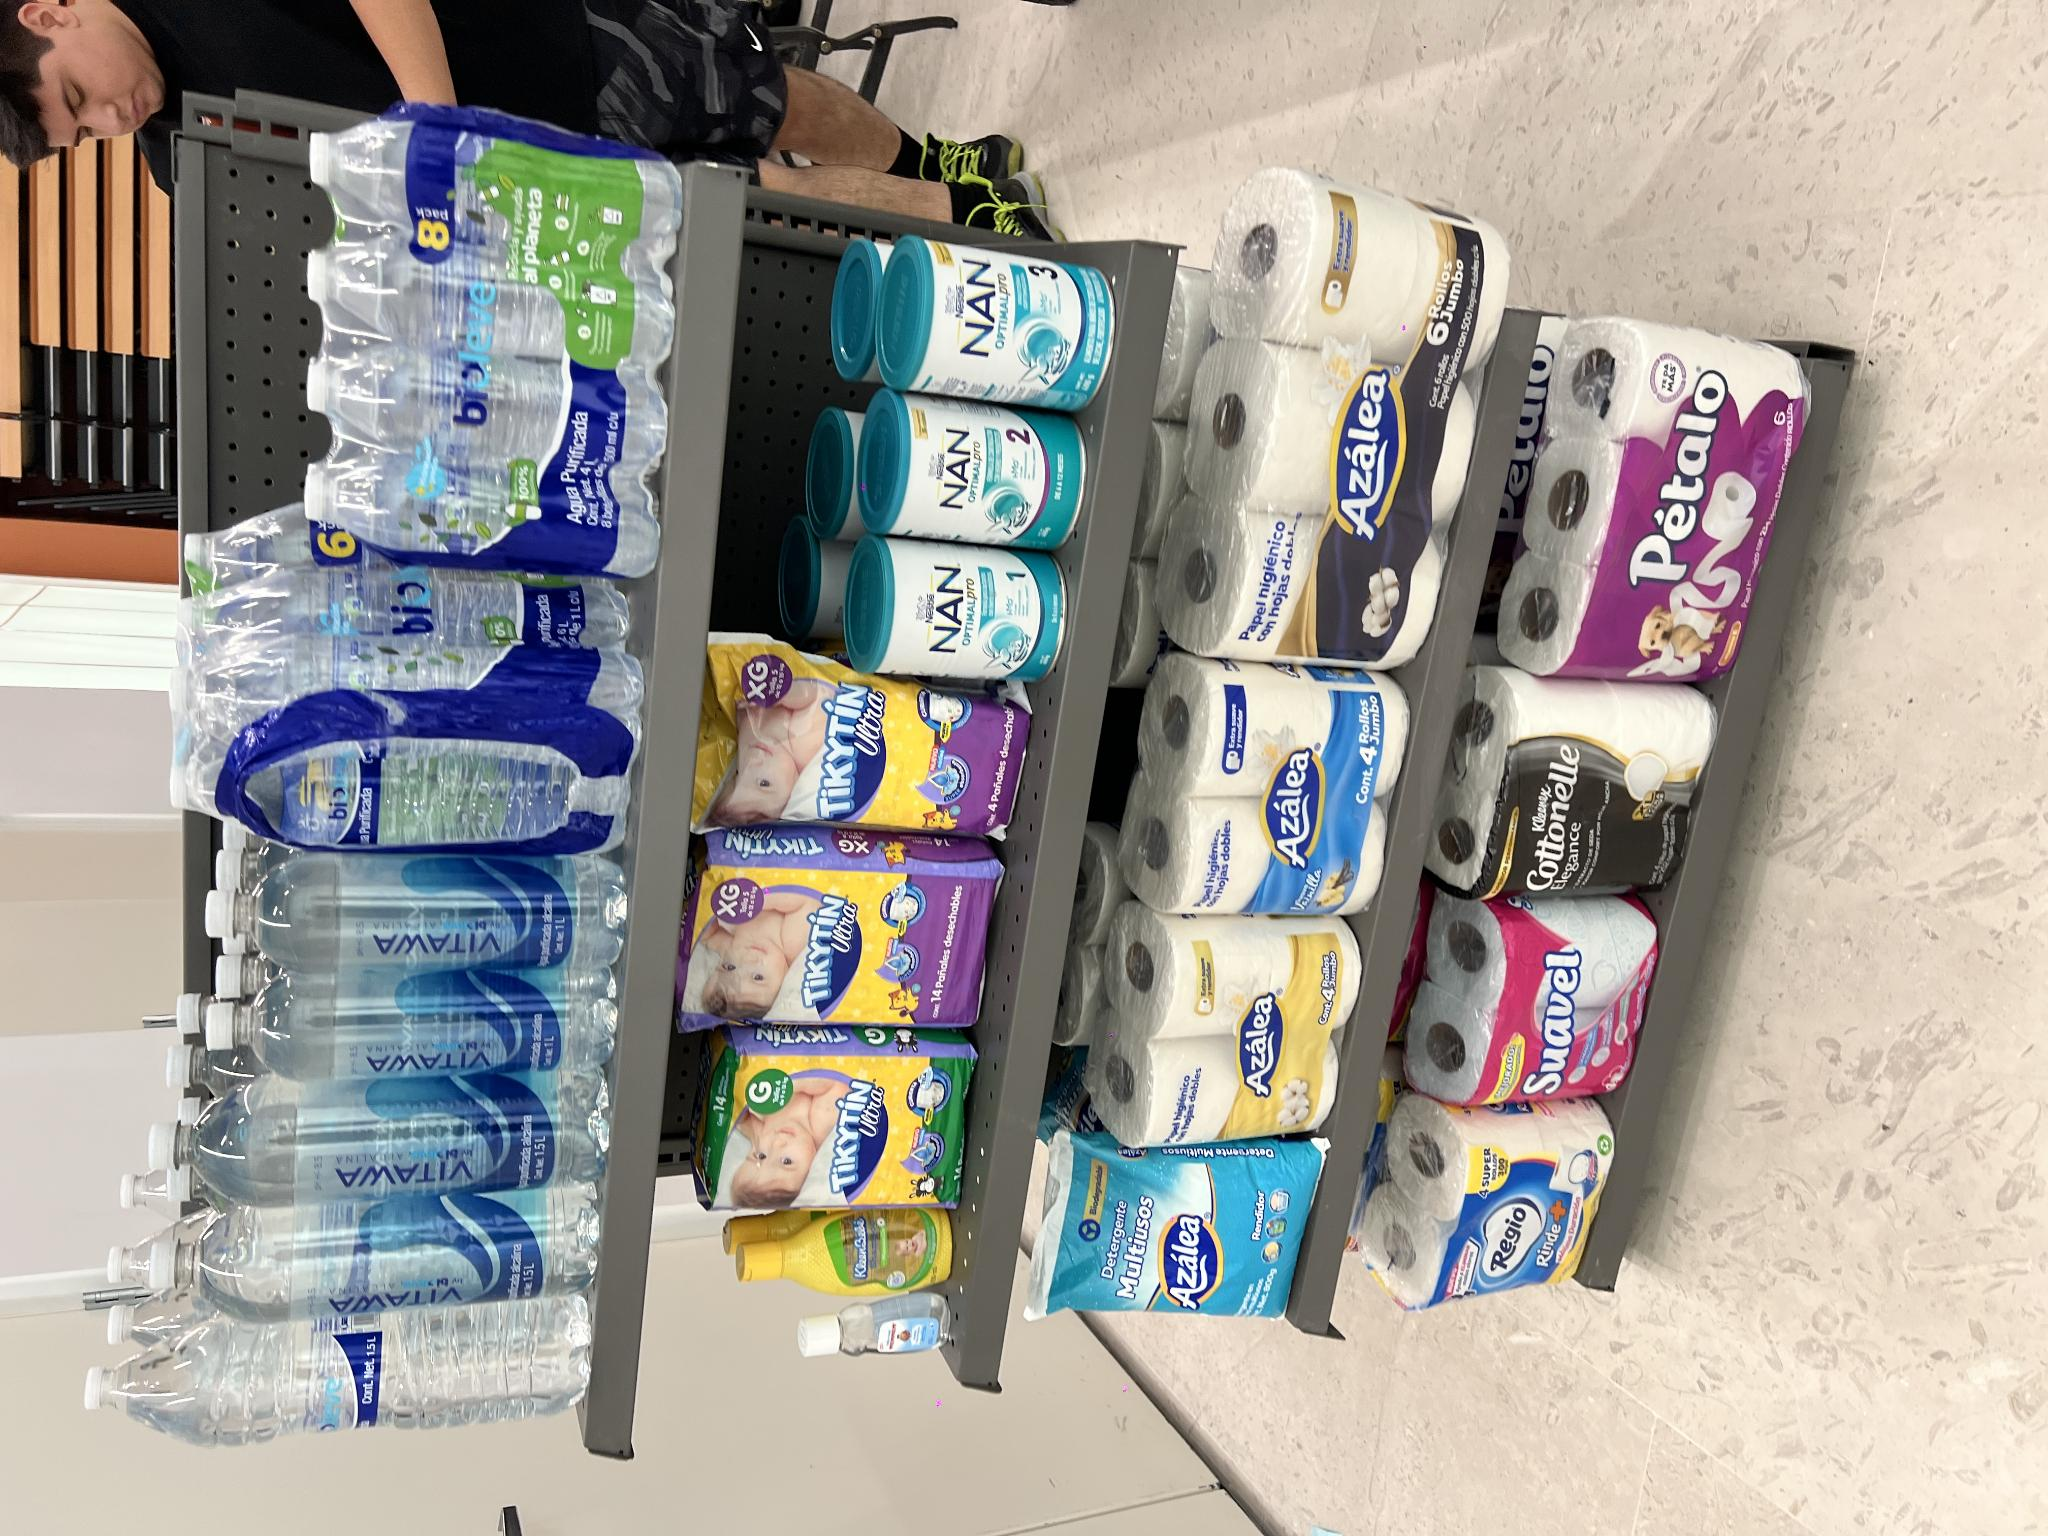aceite_bebe_mennen: (177, 789, 250, 950)
agua_bioleve: (77, 84, 242, 603)
agua_bioleve_6pack: (942, 308, 1435, 686), (681, 161, 1034, 653)
agua_vitawa_1L: (566, 197, 682, 623), (455, 200, 571, 621)
agua_vitawa_1_5L: (314, 150, 468, 616), (206, 144, 356, 615)
detergente_azaela: (216, 1020, 408, 1334)
nan_nestle_1: (850, 845, 1003, 1081)
nan_nestle_2: (982, 871, 1145, 1097)
nan_nestle_3: (1122, 892, 1297, 1126)
panales_tikytin_extragrande: (692, 691, 898, 1029), (503, 673, 701, 1004)
panales_tikytin_grande: (326, 695, 505, 978)
papelhigenico_azaela_6rollos: (868, 1199, 1371, 1523)
papelhigenico_azaela_amarillo: (387, 1123, 621, 1363)
papelhigenico_azaela_azul: (616, 1160, 879, 1418)
papelhigenico_kleenex_cottonelle: (634, 1442, 855, 1536)
papelhigenico_regio: (231, 1409, 429, 1536)
papelhigenico_suavel: (423, 1463, 637, 1536)
shampoo_bebe: (234, 731, 327, 968)
